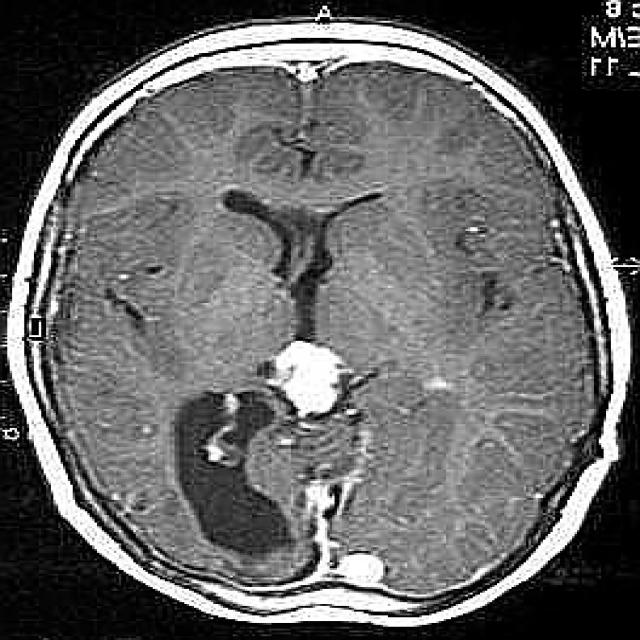Tumor-Cell: (234, 323, 364, 415)
